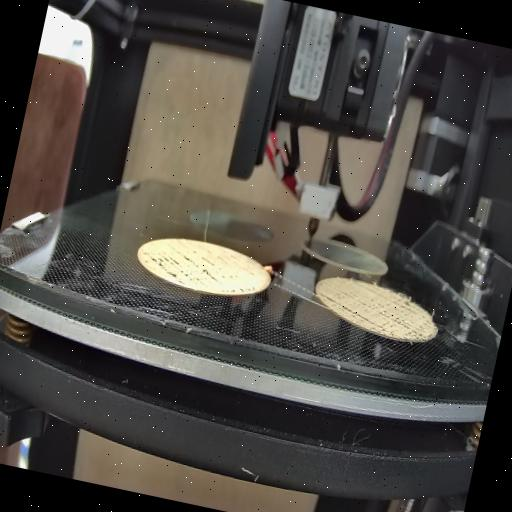under_extrusion: (140, 243, 260, 296), (318, 284, 432, 338)
